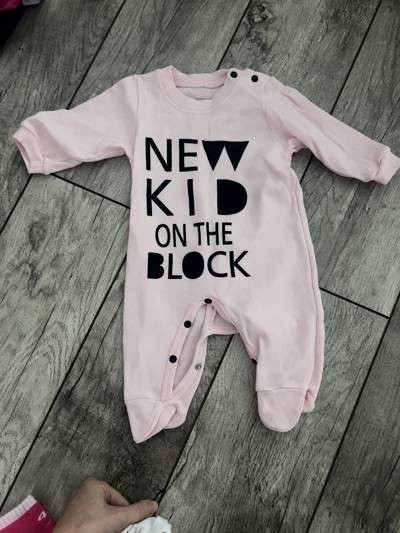Body: (6, 53, 400, 445)
